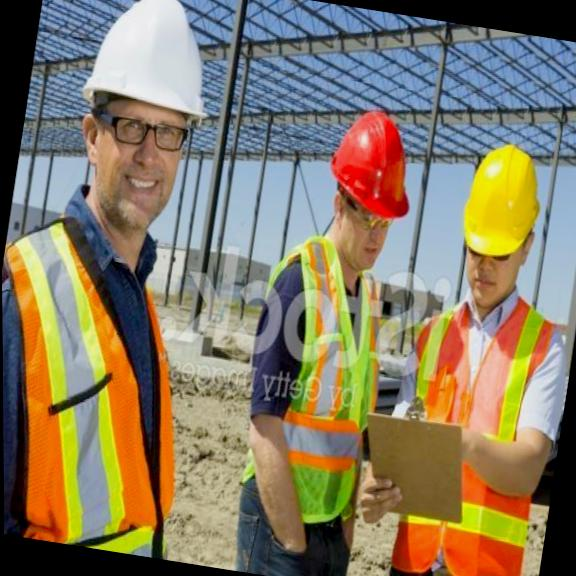safety_vest: (1, 202, 199, 556), (379, 293, 559, 576), (245, 230, 394, 514)
